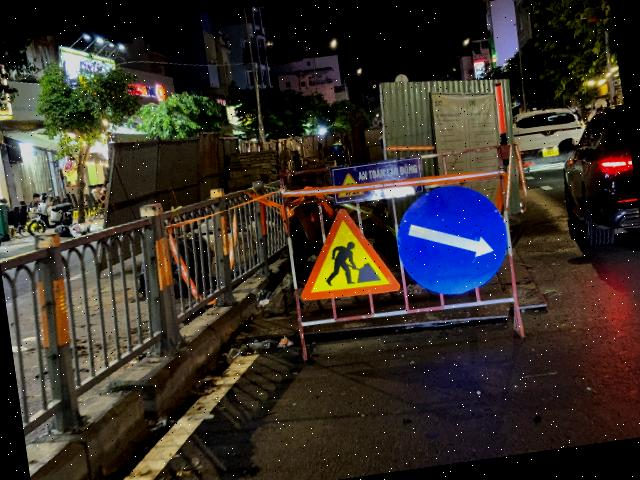cong-truong-dang-thi-cong: (289, 200, 402, 306)
huong-phai-di-vong-chuong-ngai-vat: (388, 178, 512, 300)
